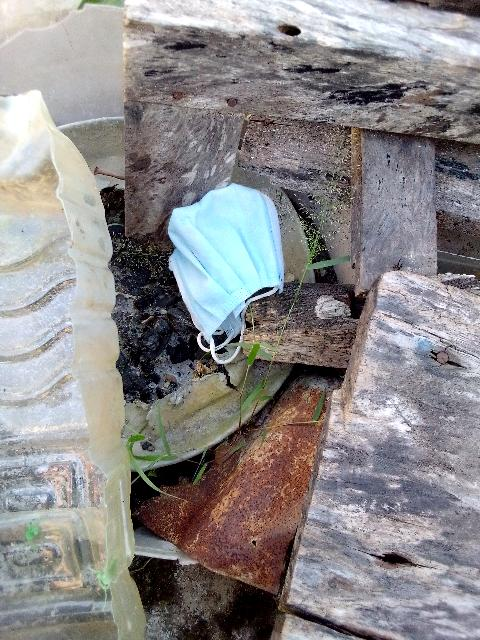mask: (158, 169, 288, 371)
